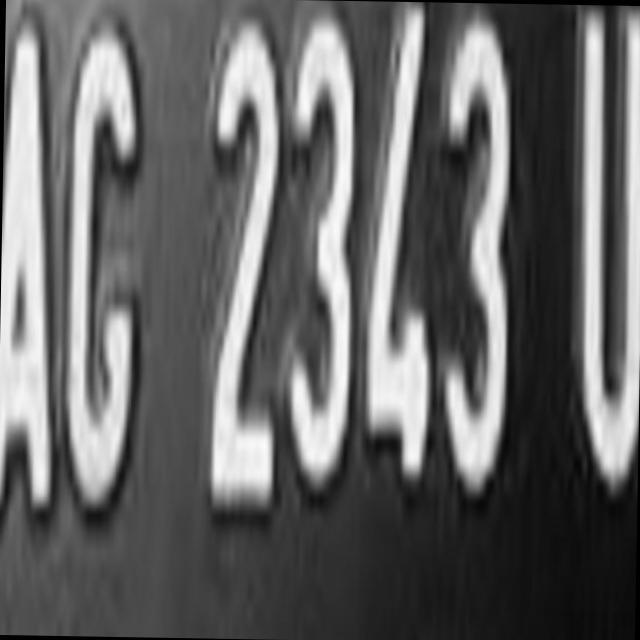2: (211, 14, 274, 511)
3: (440, 21, 524, 492), (286, 8, 352, 484)
4: (352, 1, 438, 503)
A: (4, 10, 56, 526)
G: (61, 11, 177, 511)
U: (563, 4, 640, 501)
